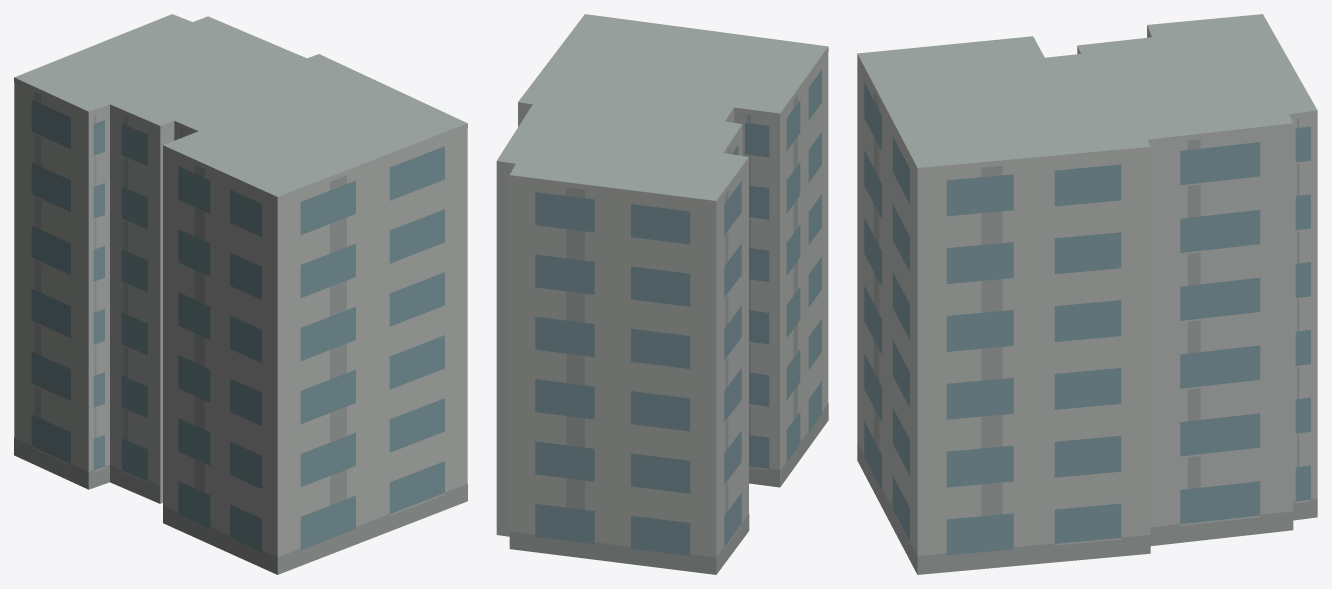
Rendered from survey-upis-32803207.glb.
The picture shows the model from 3 angles, left to right: view 1: azimuth 30°, elevation 25°; view 2: azimuth 150°, elevation 25°; view 3: azimuth 270°, elevation 25°; orthographic projection. The views are drawn at different scales.
Visible parts, largest first — view 1: survey-upis-32803207.tmp; view 2: survey-upis-32803207.tmp; view 3: survey-upis-32803207.tmp.
Boxes of the visible parts, x1,y1,x2,y2 form: survey-upis-32803207.tmp: (14,14,467,574); survey-upis-32803207.tmp: (496,14,828,574); survey-upis-32803207.tmp: (857,14,1317,574).
Bounding box in the file's own units: 14.62 × 18 × 18.47.
